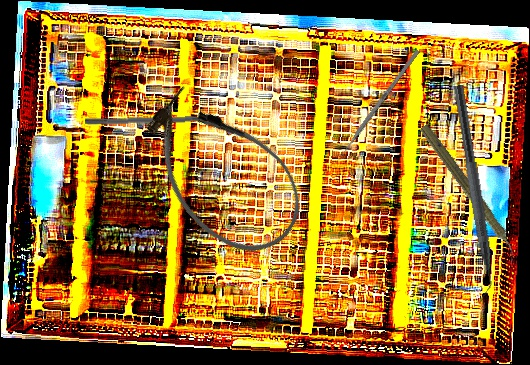Cannula: (121, 69, 323, 276)
Chopper: (438, 84, 502, 304)
Handpiece: (413, 121, 527, 267)
Pusher: (333, 48, 420, 167), (84, 115, 229, 127)
